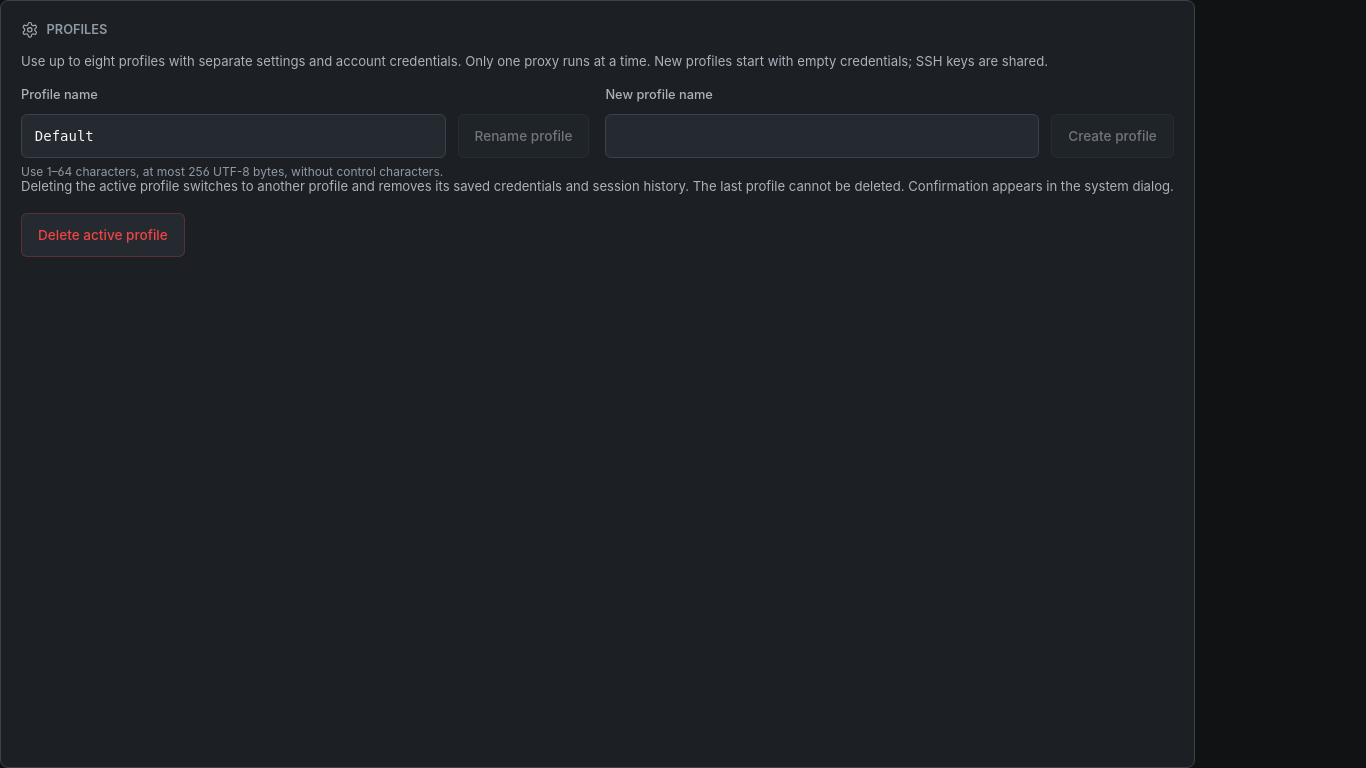
Test case: shows safe translated name validation without raw backend errors
In the field labelled "New profile name": (822, 136) [605,114,1039,158], type "Candidate"
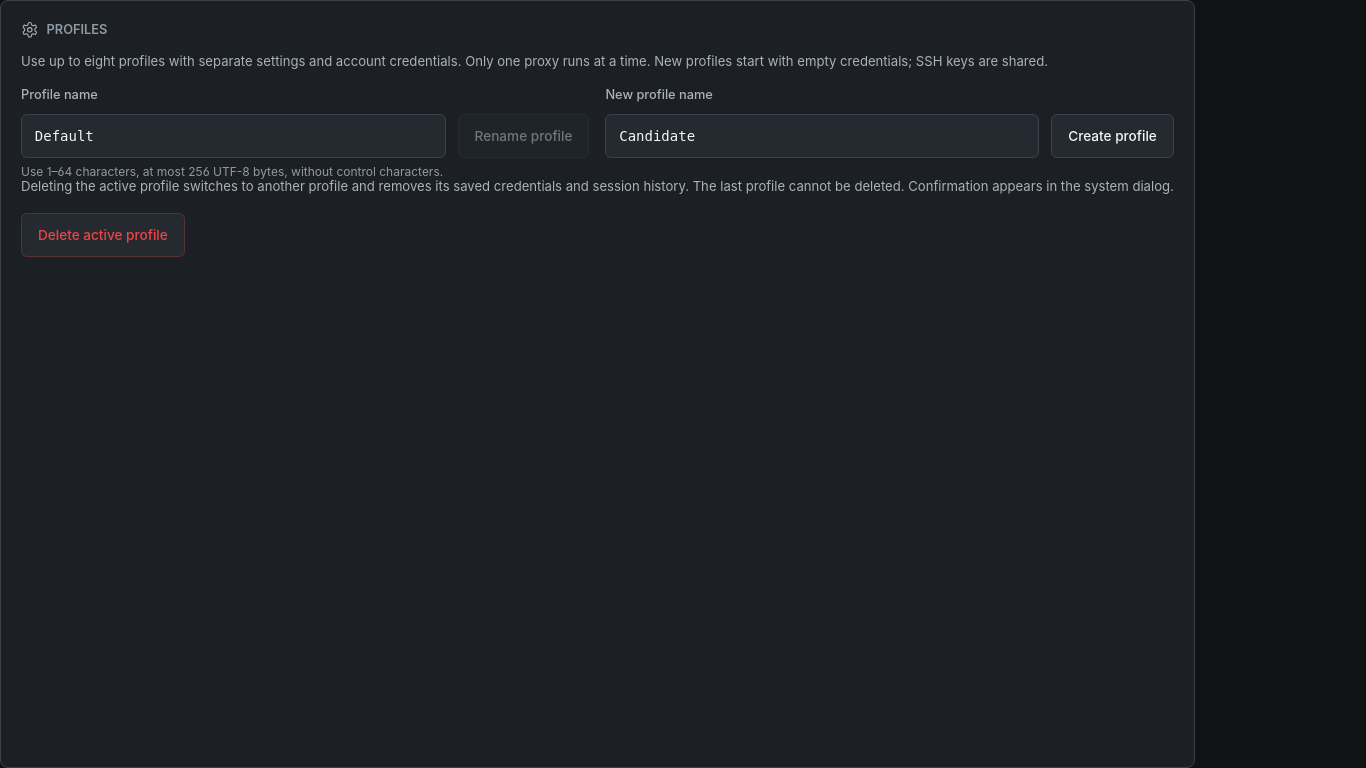
Click the button "Create profile": (1113, 136) [1051,114,1174,158]
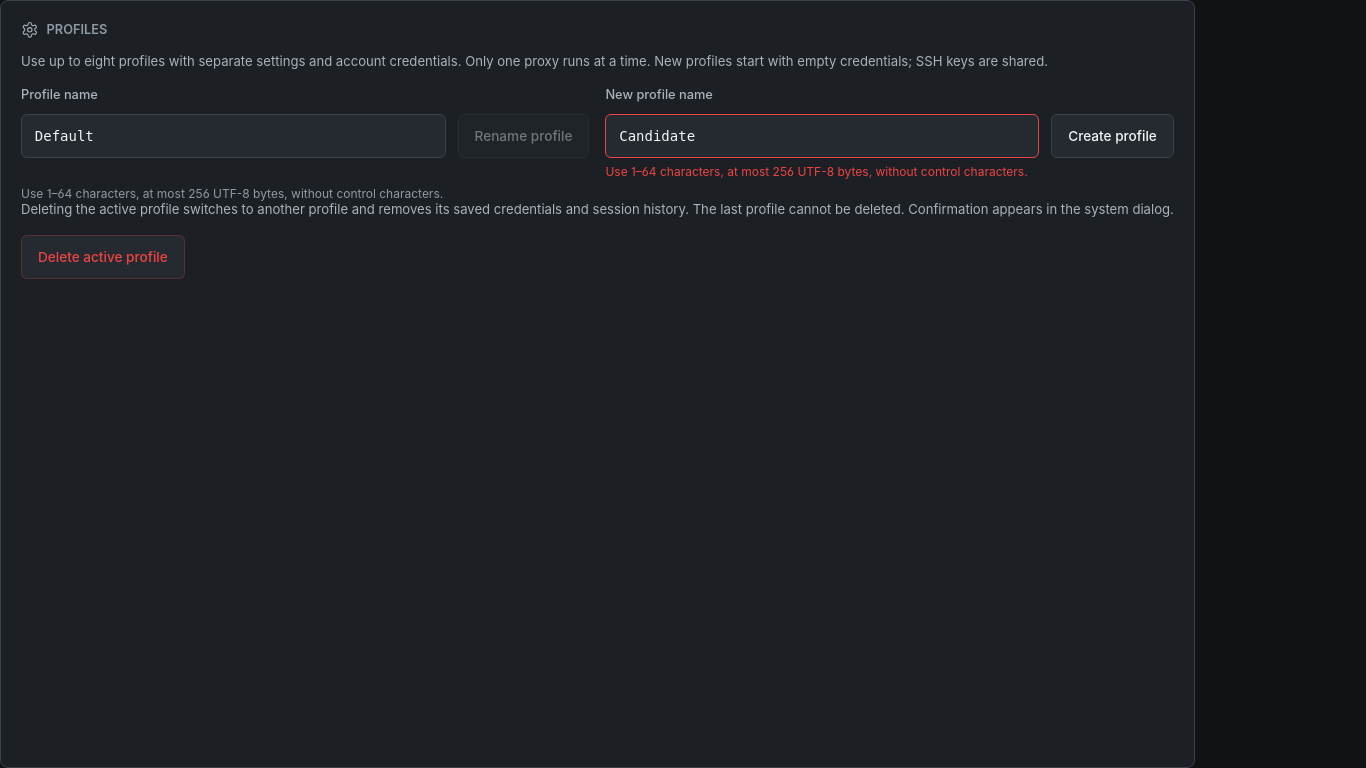
Expected: the message shows "Use 1–64 characters", [605,164,1028,178]
